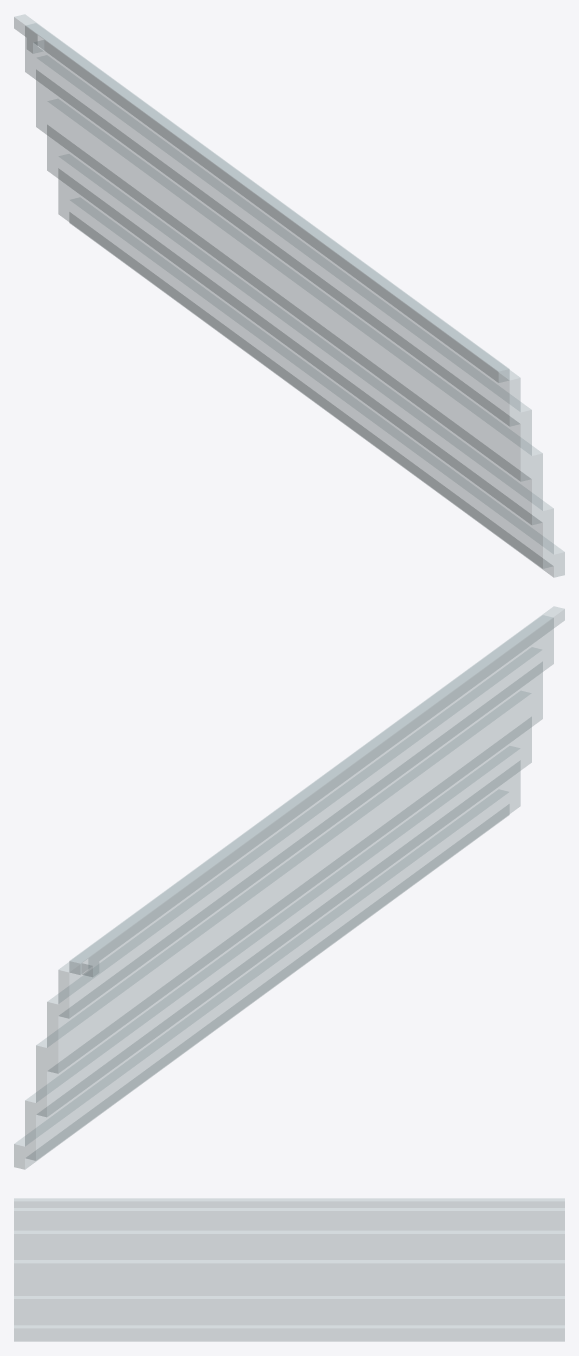
Rendered from tour_bus_open_top_deflector.glb.
3 renders of one model, top to bottom at view 1: azimuth 30°, elevation 25°; view 2: azimuth 150°, elevation 25°; view 3: azimuth 270°, elevation 25°, orthographic. The views are drawn at different scales.
Parts seen in each view (by area): view 1: body:compound; view 2: body:compound; view 3: body:compound.
Part boxes in pixels (x1,y1,x2,y2): body:compound: (14,14,564,577); body:compound: (14,606,564,1169); body:compound: (14,1198,564,1341).
Size of the model in its own units: 0.1875 by 0.5938 by 2.38.
